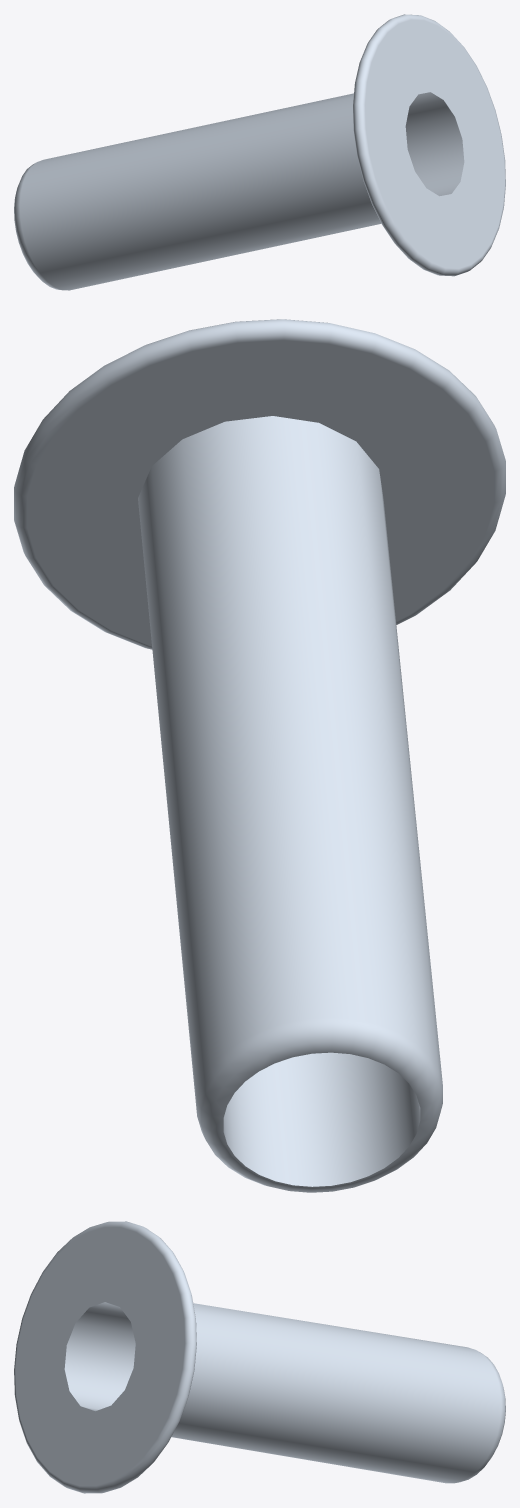
The model's file is RB-044_viewer.glb.
The picture shows the model from 3 angles, top to bottom: view 1: azimuth 30°, elevation 25°; view 2: azimuth 150°, elevation 25°; view 3: azimuth 270°, elevation 25°; orthographic projection. The views are drawn at different scales.
Visible parts, largest first — view 1: basebody_imported1; view 2: basebody_imported1; view 3: basebody_imported1.
Part boxes in pixels (bbox=[...]): basebody_imported1: bbox=[14, 14, 505, 290]; basebody_imported1: bbox=[14, 319, 505, 1192]; basebody_imported1: bbox=[14, 1221, 505, 1493].
Size of the model in its own units: 0.00763 by 0.00668 by 0.00893.
